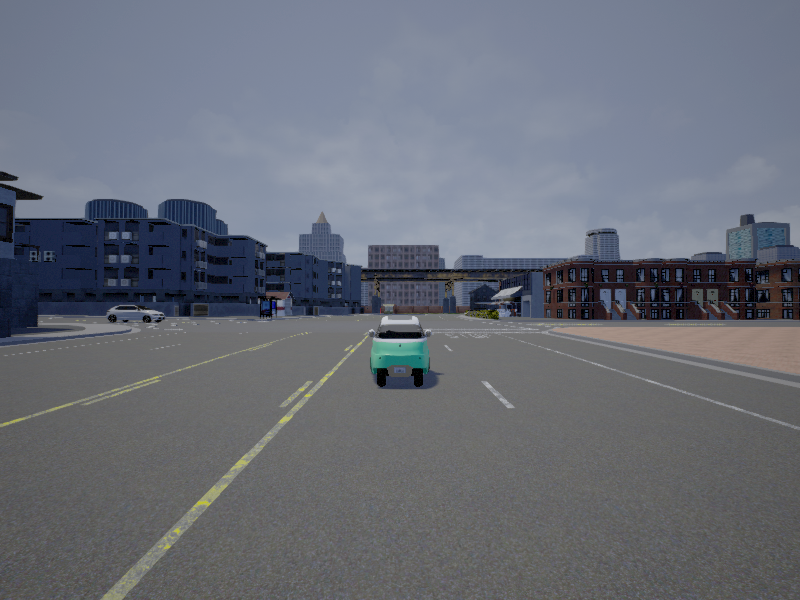Benign: (370, 315, 429, 387), (107, 304, 167, 326)
